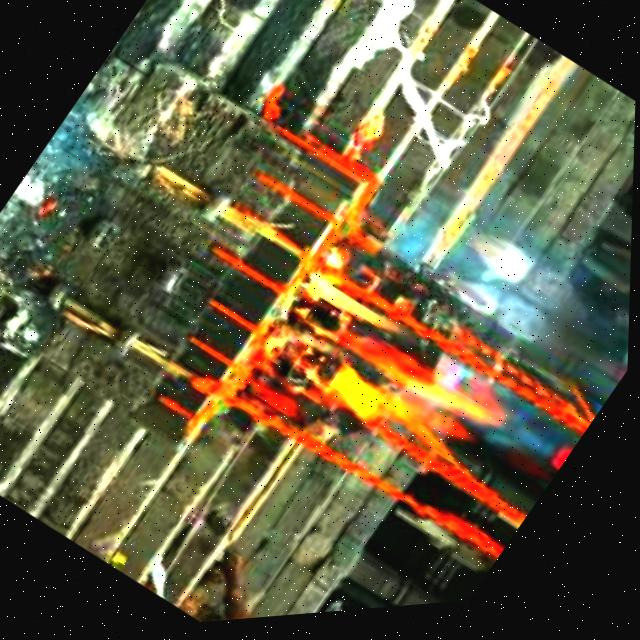Fire: (253, 240, 532, 501)
